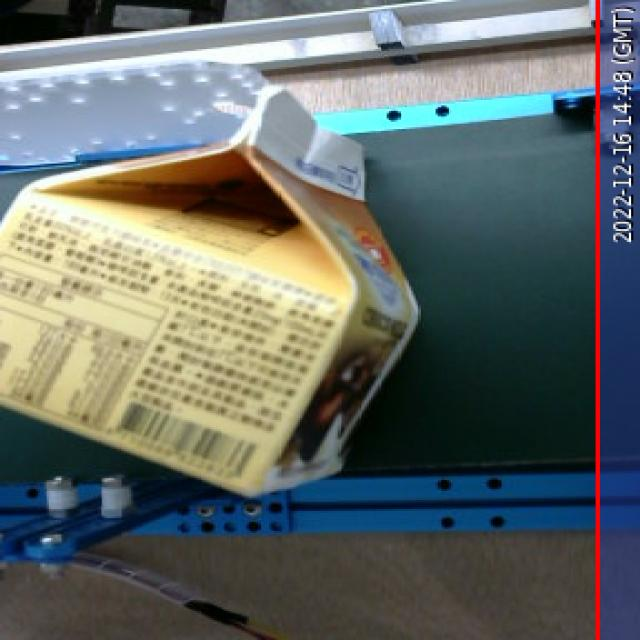non_white_jug: (0, 76, 457, 522)
